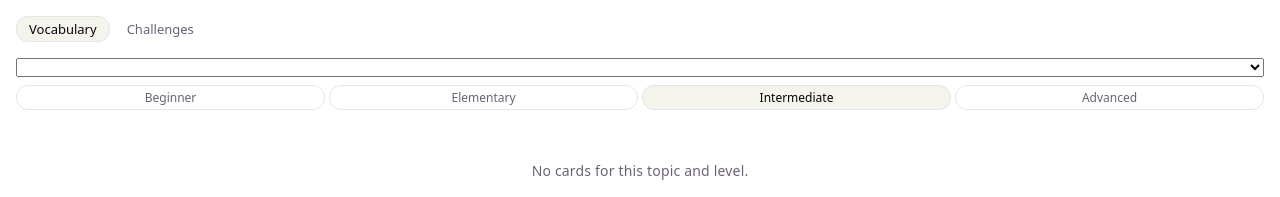
Test case: PronunciationView — challenges tab › switching to Challenges tab shows challenge list
Click the button "Challenges" at (160, 29), box [114, 16, 207, 42]
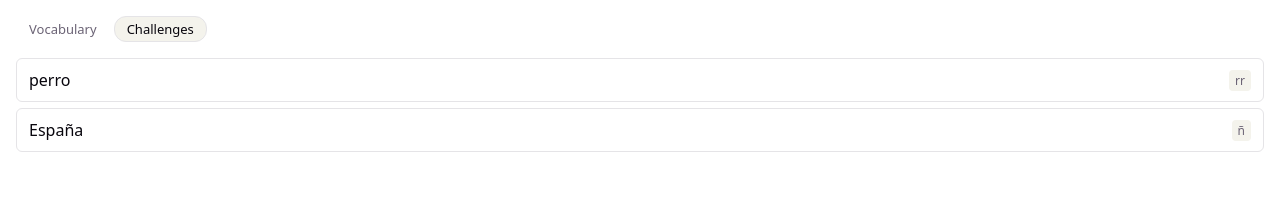
Expected: the text "perro" is shown, [29, 69, 70, 91]
